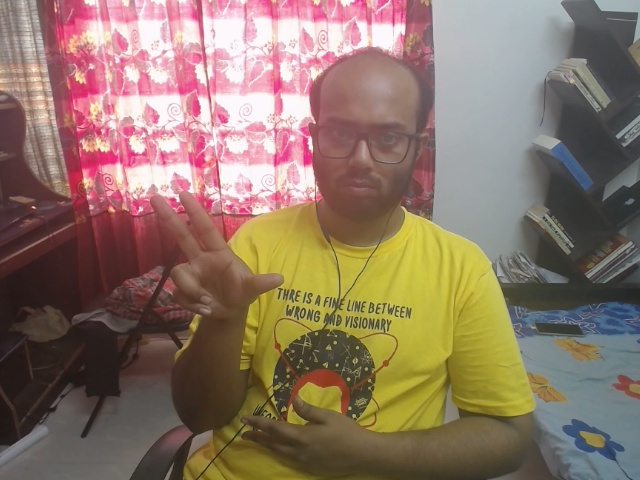eight: (133, 174, 303, 346)
